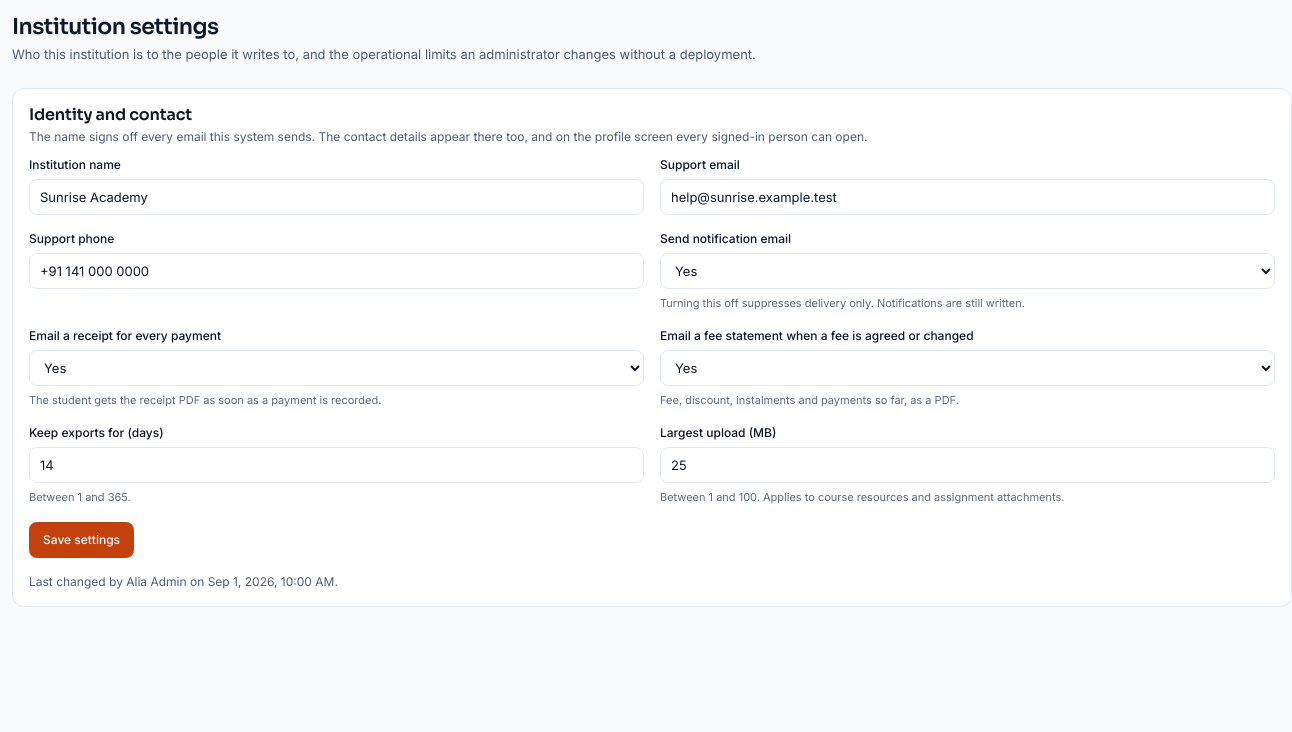
InstitutionSettingsPage › renders a failure with no field of its own as an alert above the form
Replace the text in the field labelled "Support email" with "new@sunrise.example.test" at (968, 197), box [660,179,1275,215]
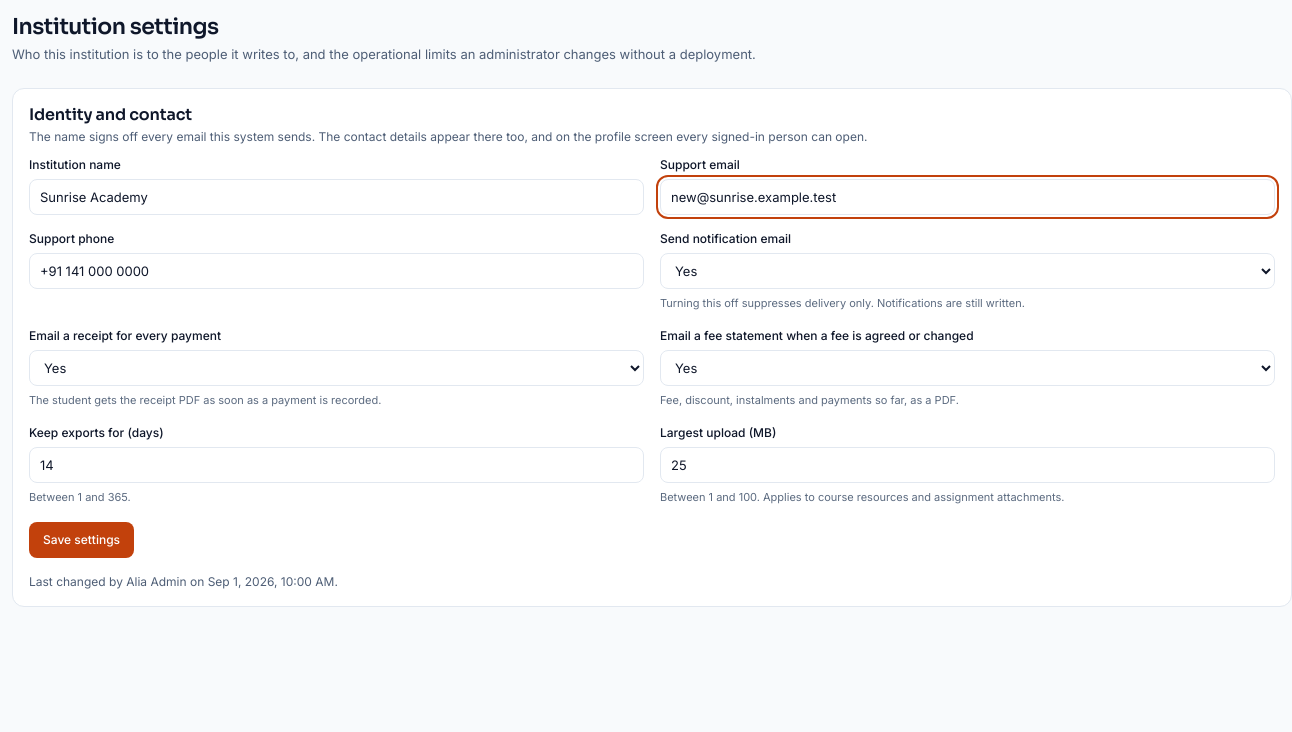
Click the button "Save settings" at (82, 540), box [29,522,134,558]
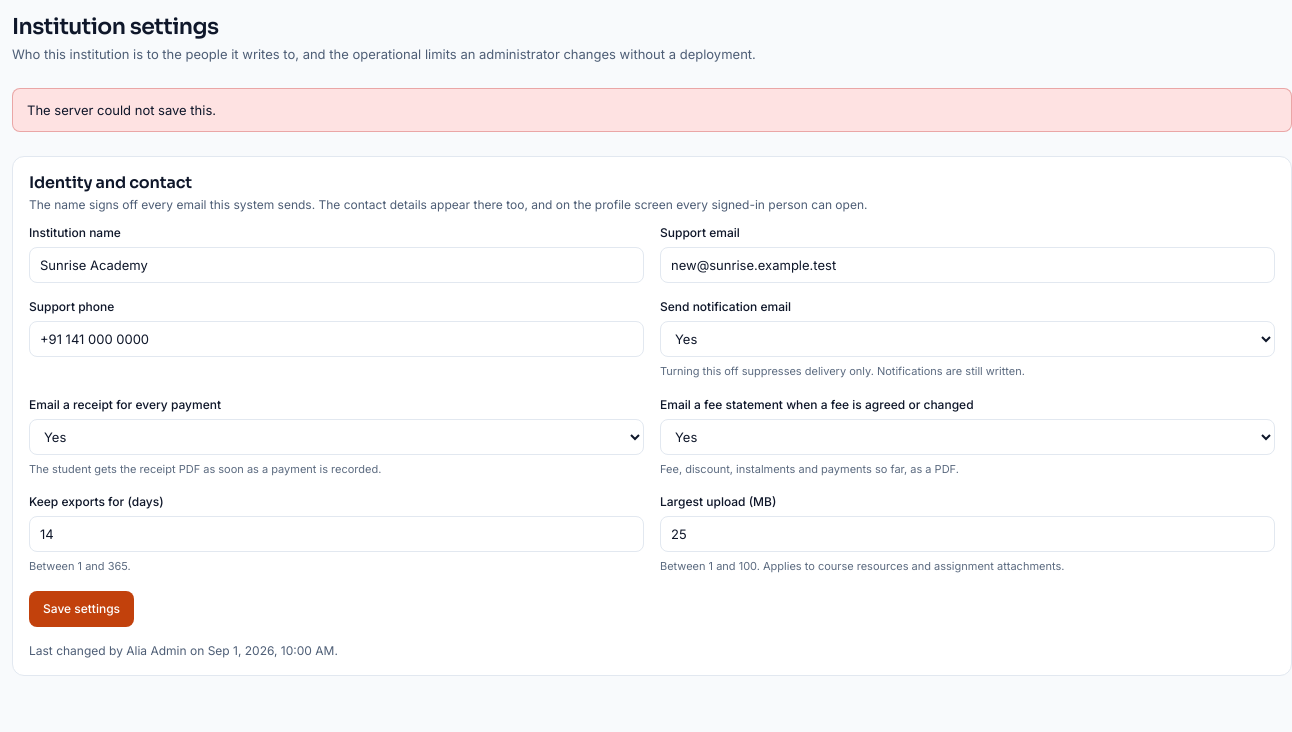
Check: the message reads "The server could not save this.", box [27,102,216,118]
